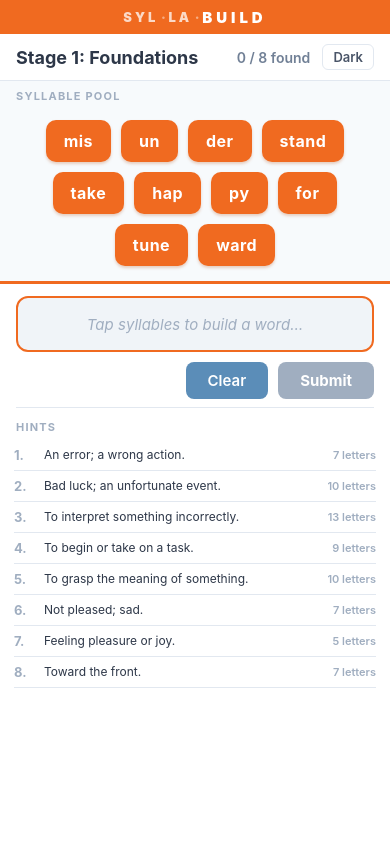
Test case: GameScreen — Clear button › pressing Clear resets the builder to placeholder
Click the text "mis".
click(78, 141)  # box [64, 131, 93, 151]
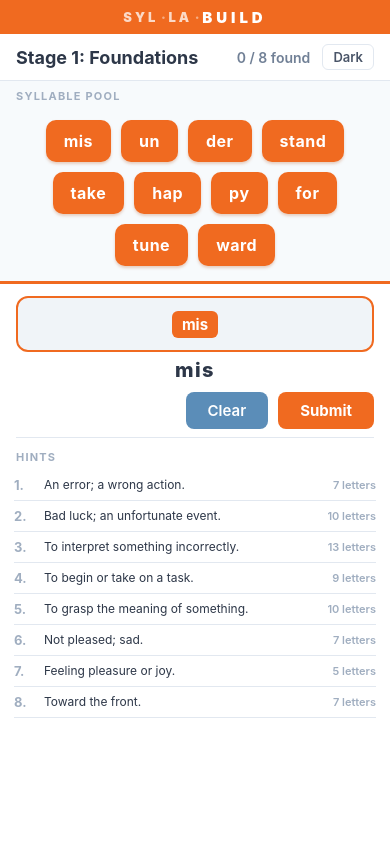
Click the text "Clear".
click(227, 410)  # box [208, 401, 246, 420]
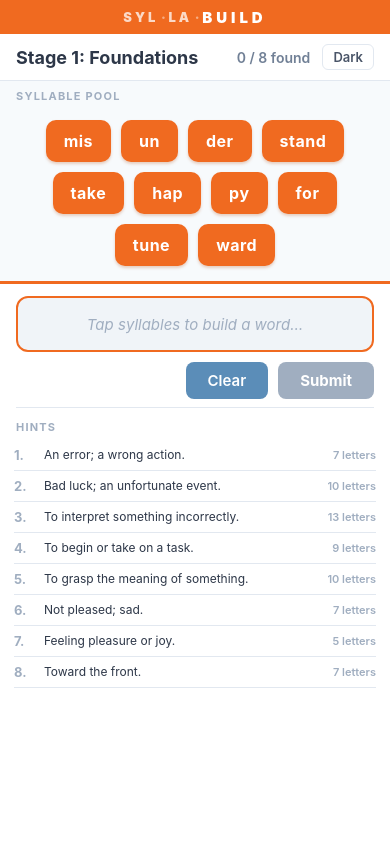
Expected: the text "Tap syllables to build a word…" is shown, [87, 314, 303, 334]
